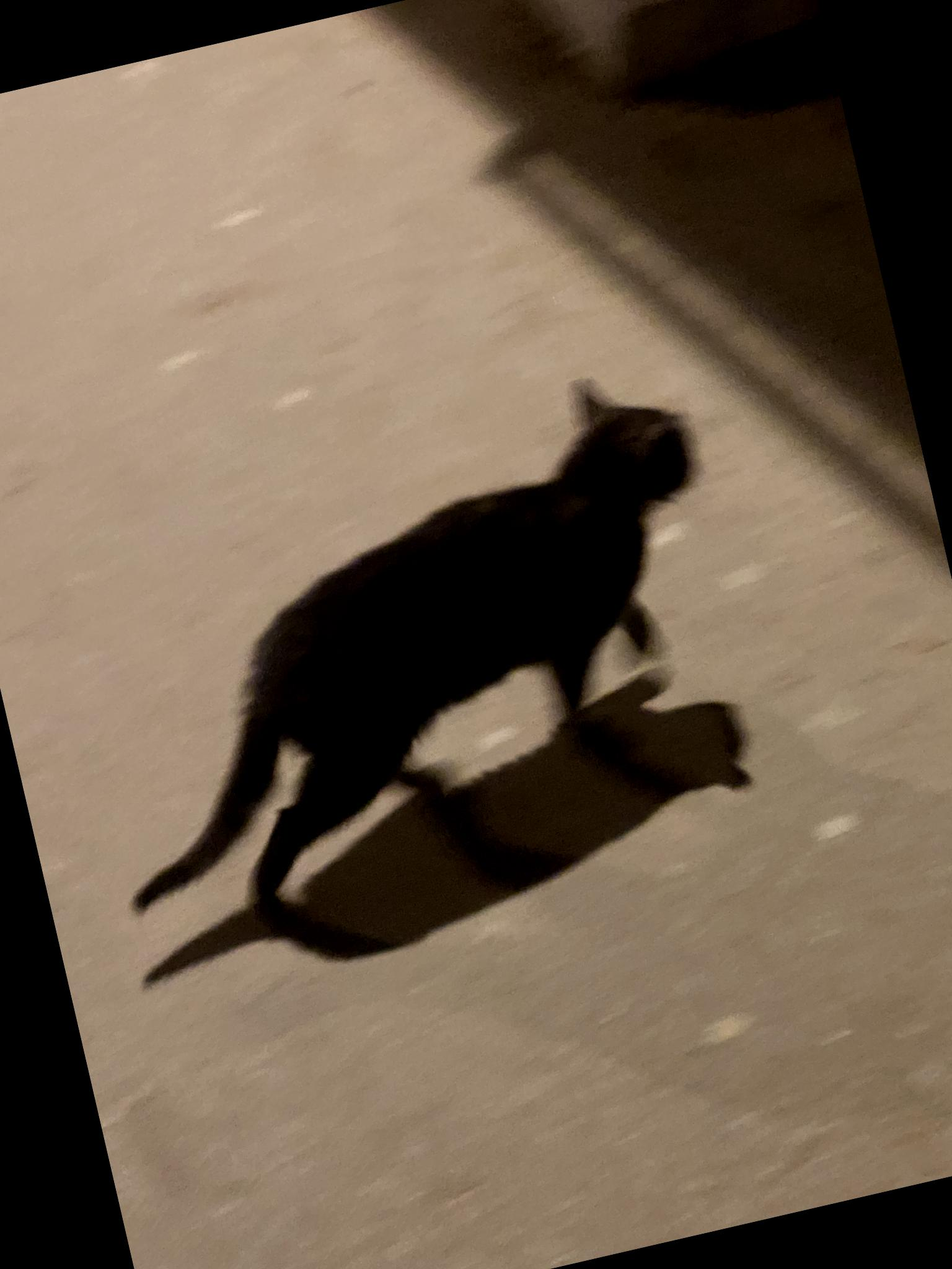macka: (37, 360, 782, 977)
